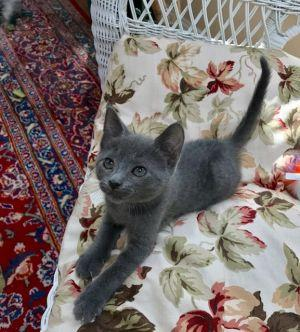rblue: (77, 96, 191, 221)
